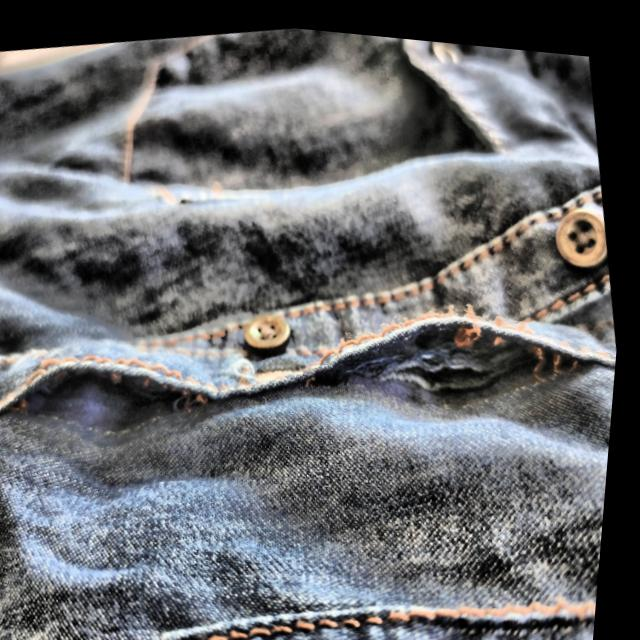seam: (285, 234, 617, 435), (0, 322, 218, 466)
